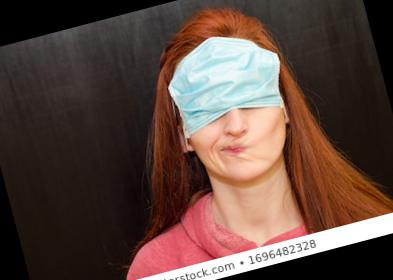mask_weared_incorrect: (172, 53, 304, 195)
